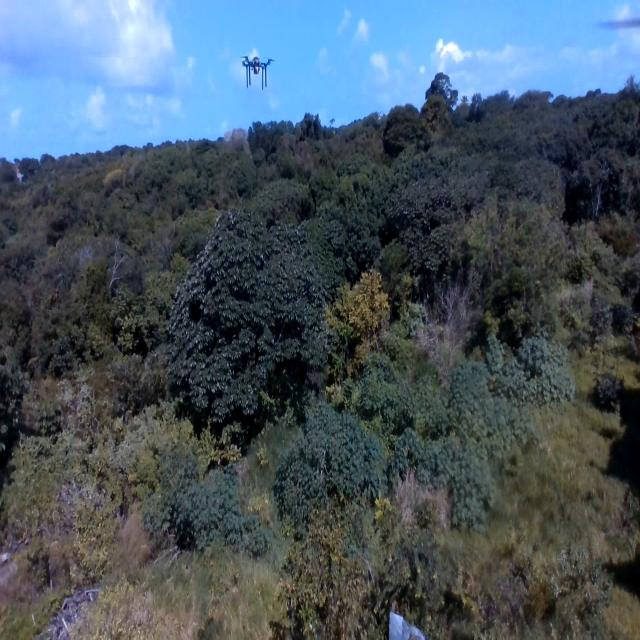-uav-: (235, 43, 277, 99)
